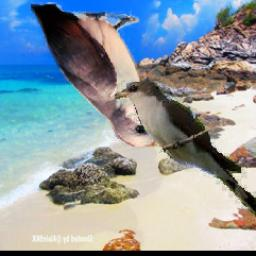Cuckoo: (31, 2, 177, 147), (115, 80, 256, 222)
